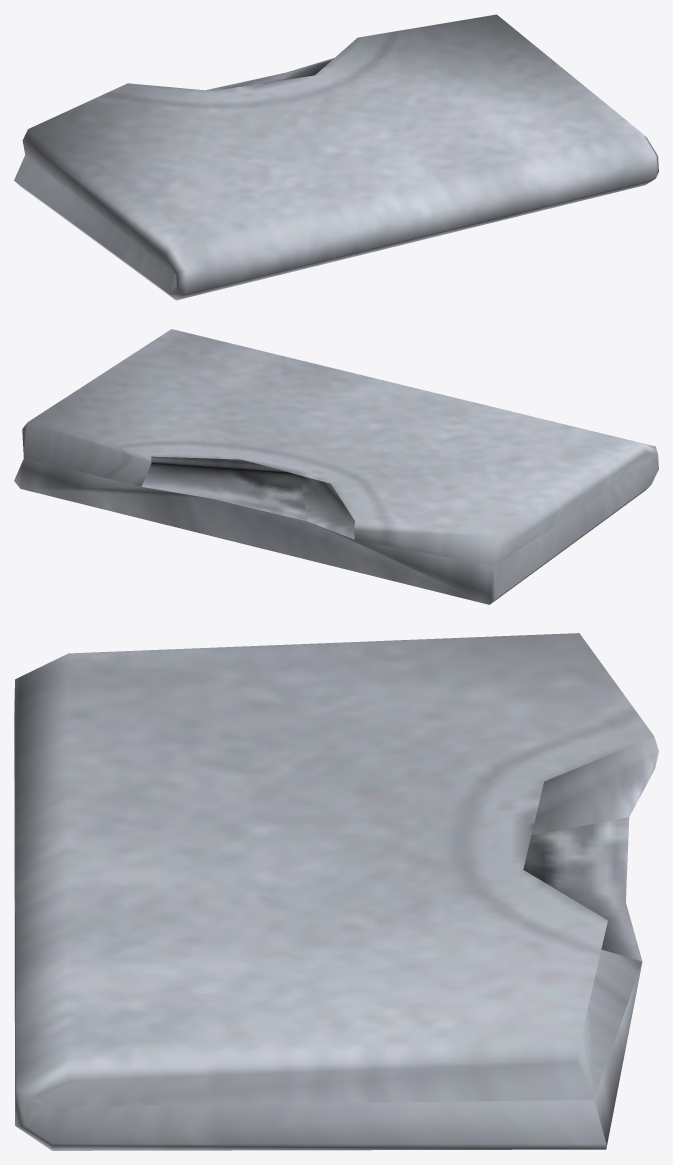
The model's file is paris_t_shirt_folded_base_lod3.glb.
3 renders of one model, top to bottom at view 1: azimuth 30°, elevation 25°; view 2: azimuth 150°, elevation 25°; view 3: azimuth 270°, elevation 25°, orthographic. The views are drawn at different scales.
Parts seen in each view (by area): view 1: surf0; view 2: surf0; view 3: surf0.
Boxes of the visible parts, bbox=[...] form: surf0: bbox=[14, 14, 658, 300]; surf0: bbox=[14, 329, 658, 604]; surf0: bbox=[14, 633, 658, 1150].
Bounding box in the file's own units: 14.73 × 1.93 × 9.59.
